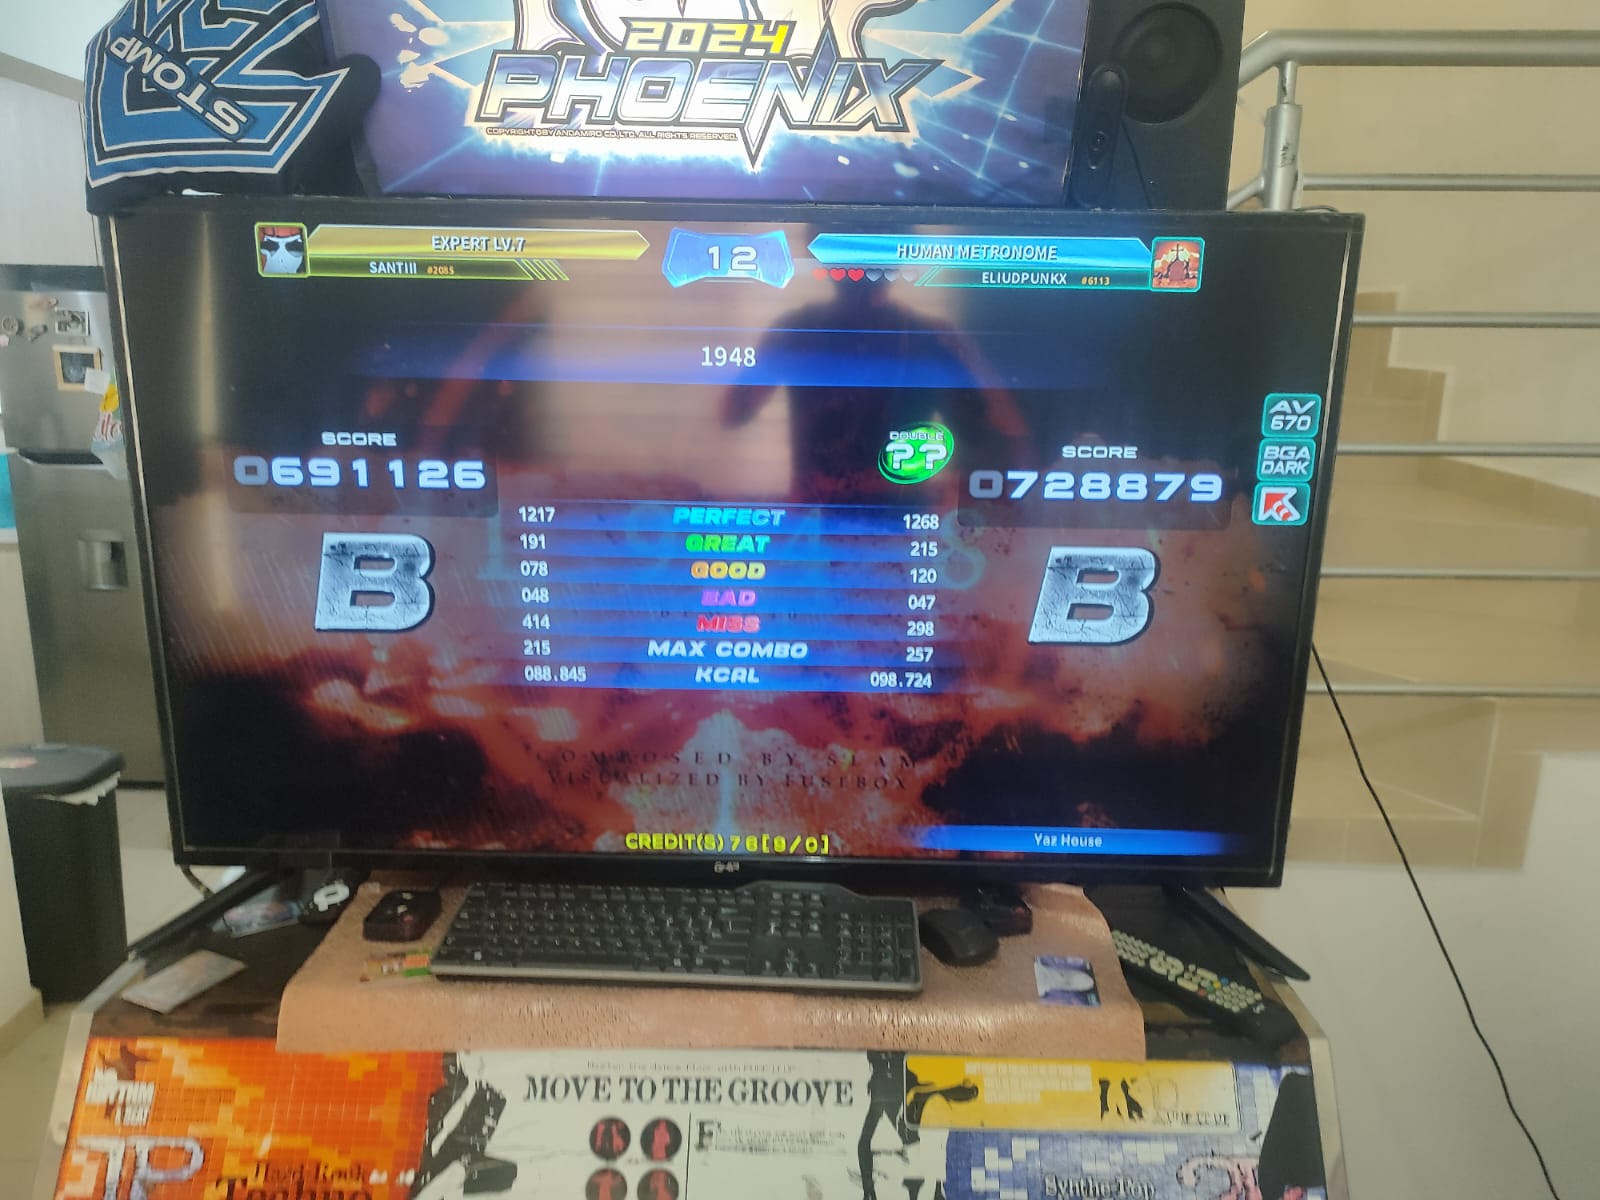fullscore: (538, 227, 1364, 856)
rank: (1026, 537, 1182, 662)
score: (956, 447, 1240, 521)
song_name: (596, 321, 858, 387), (872, 413, 964, 497)
